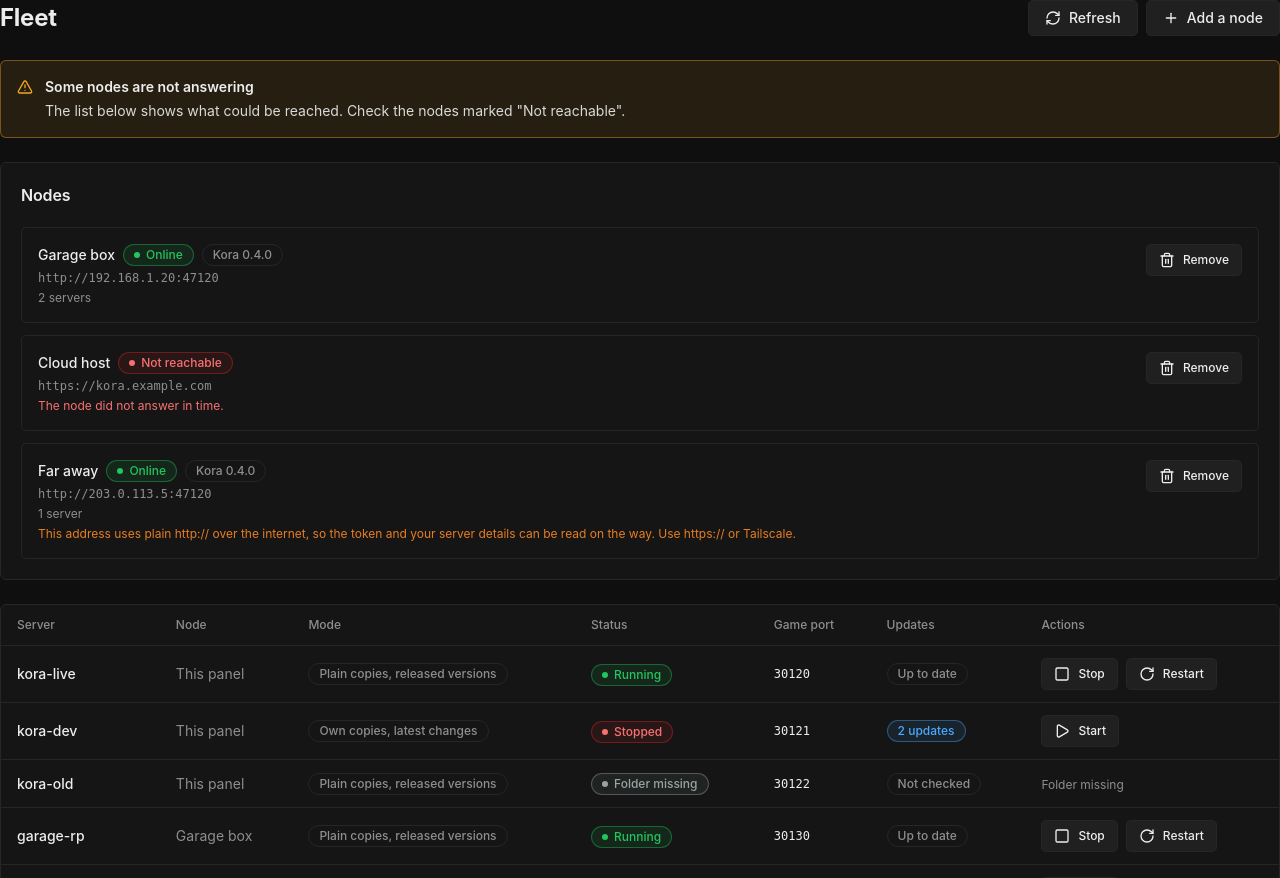
Test: Fleet page › shows the reason when a node is rejected
Expected: the button with aria-label "Remove Garage box" is shown, [1146,244,1242,276]
Click the button "Add a node" at (1213, 18), box [1146,0,1279,36]
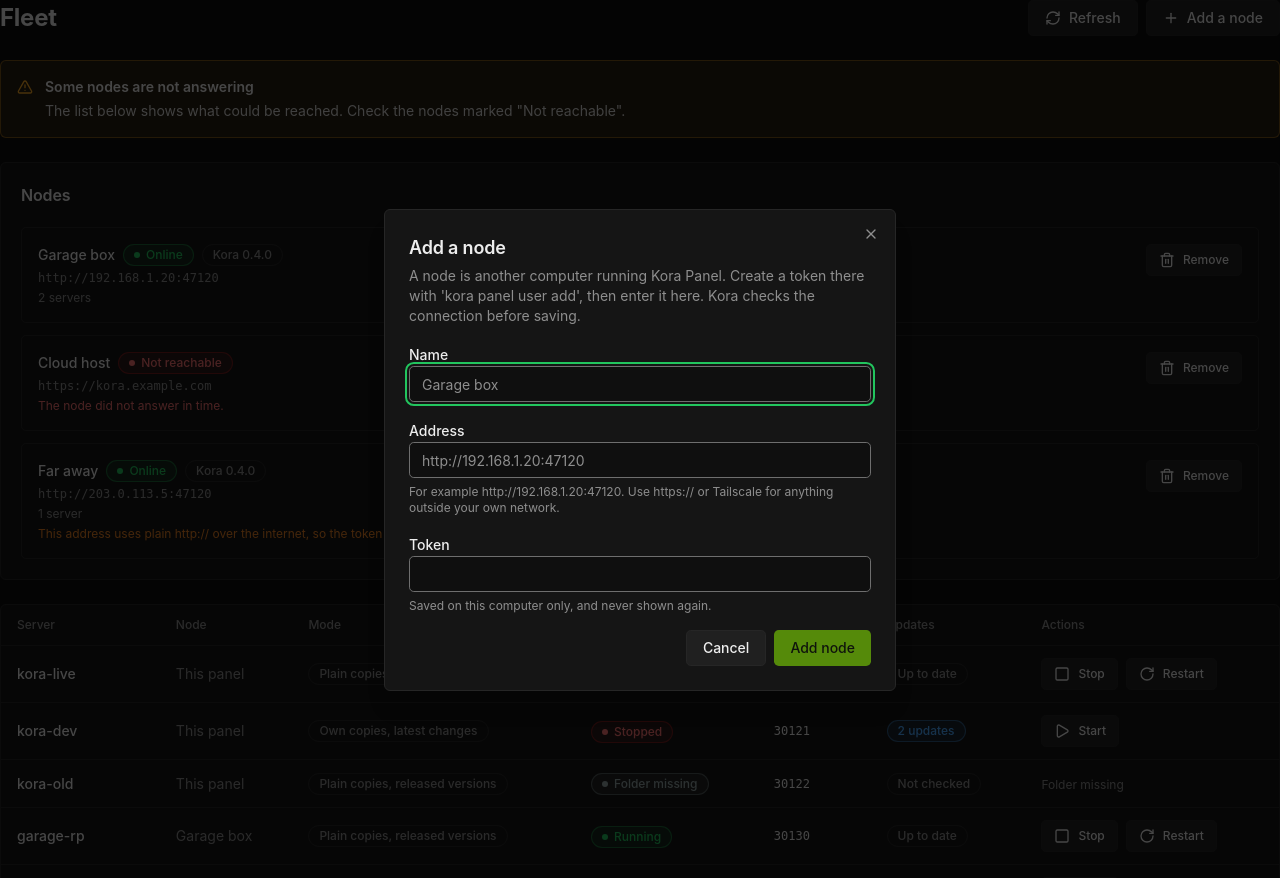
Type "Bad" into the field labelled "Name" at (640, 384), box [409,366,871,402]
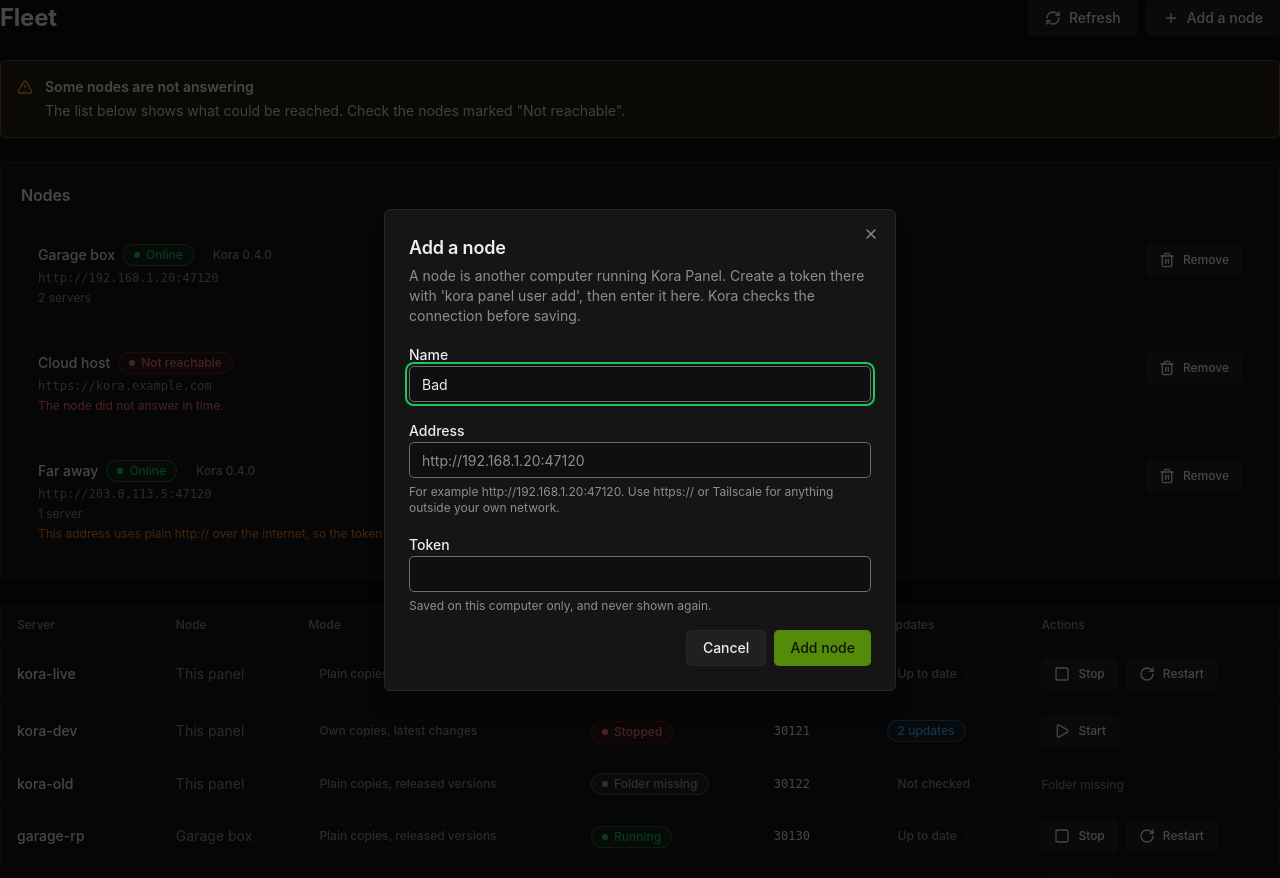
Type "ftp://nope" into the field labelled "Address" at (640, 460), box [409,442,871,478]
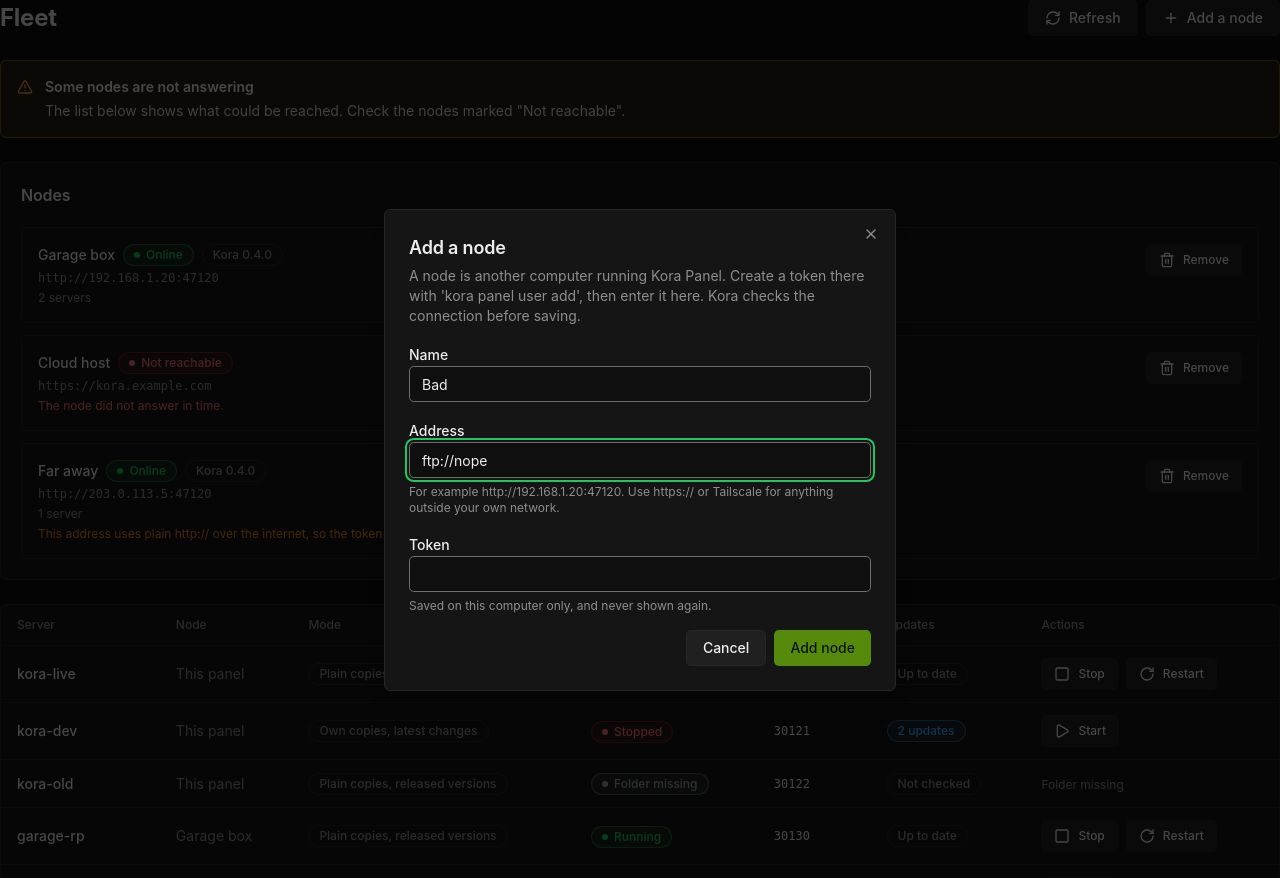
Type "t" into the password field labelled "Token" at (640, 574), box [409,556,871,592]
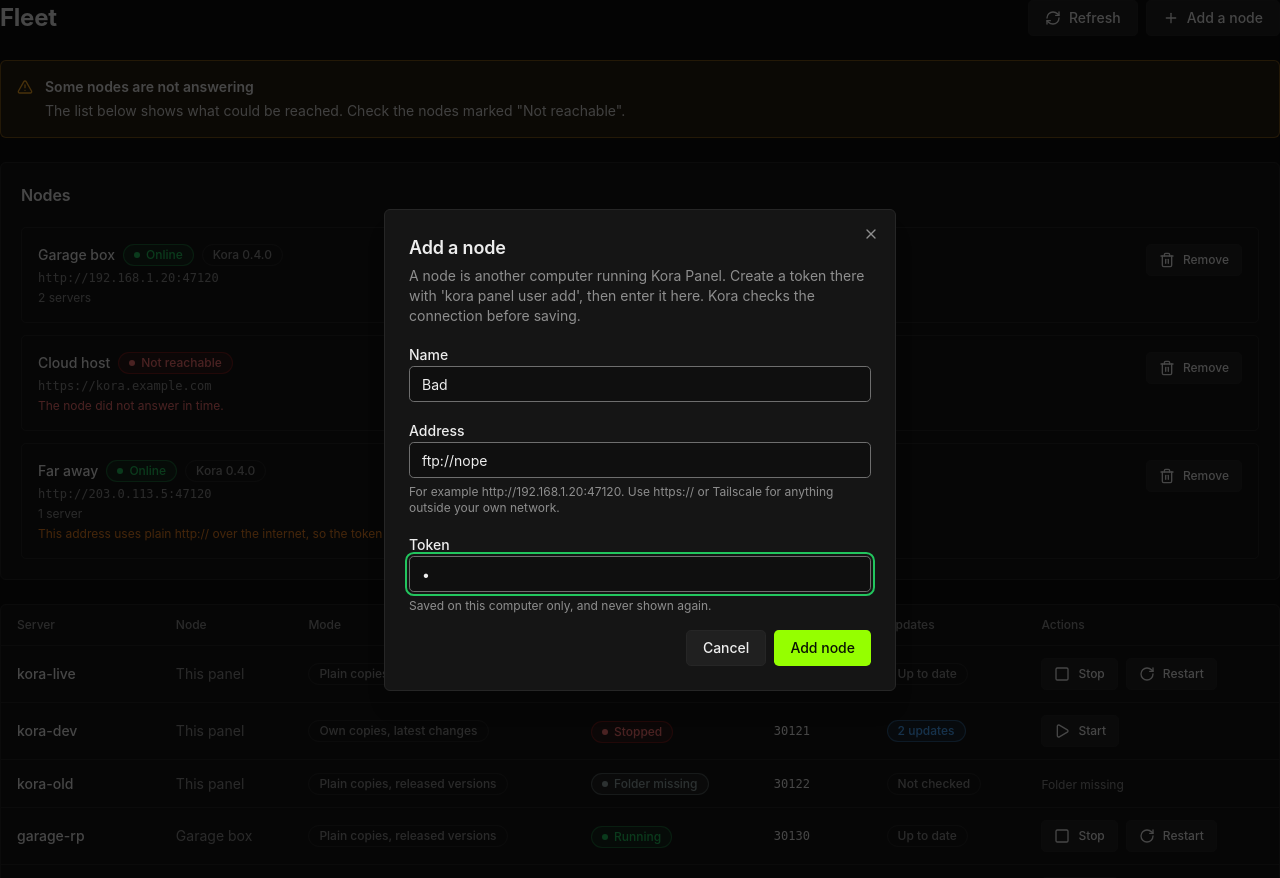
Click the button "Add node" at (823, 648), box [774,630,871,666]
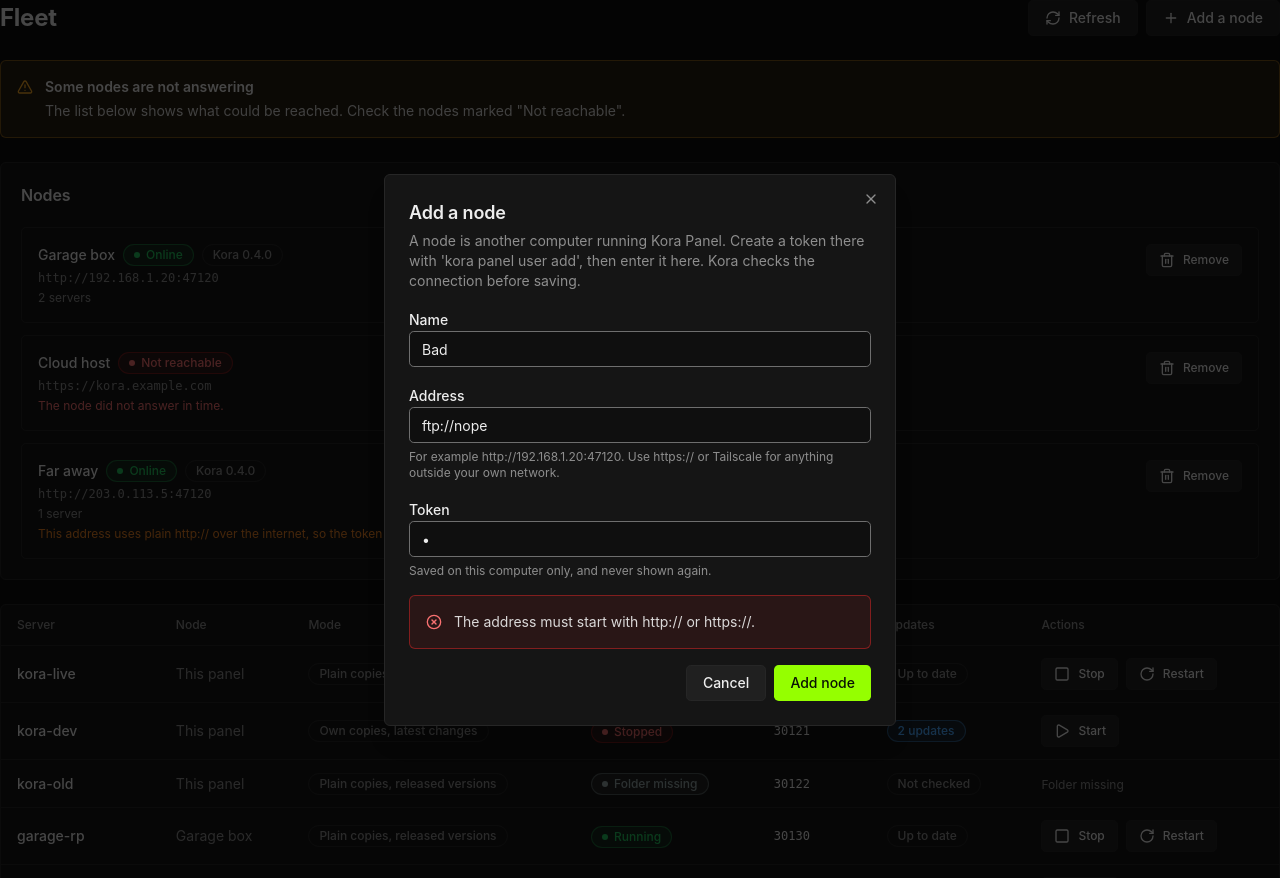
Result: the text "The address must start with http:// or https://." is shown at [454,613,755,630]
